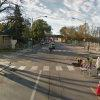Crosswalk: (8, 57, 90, 76)
